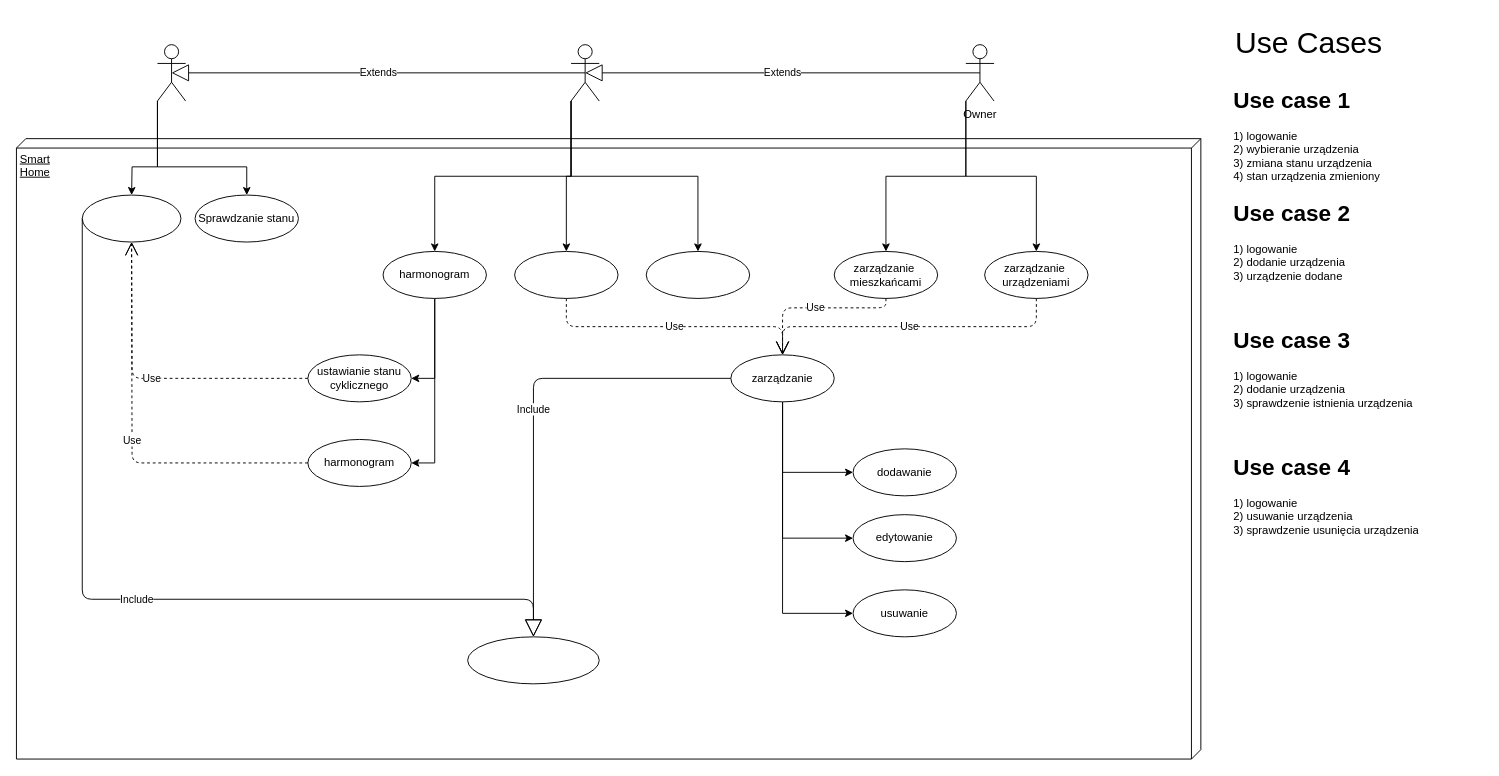
This 1499x776 diagram has some shape labels left out. The centre of each missing label's shape, as x and y in pixels:
Guest: the point at 171,72
istnienie urządzenia: the point at 533,660
Linki urządzenia: the point at 697,274
Mieszkaniec: the point at 584,72
Ustawianie stanu (ON/OFF): the point at 131,218
zarządzanie gośćmi: the point at 566,274
